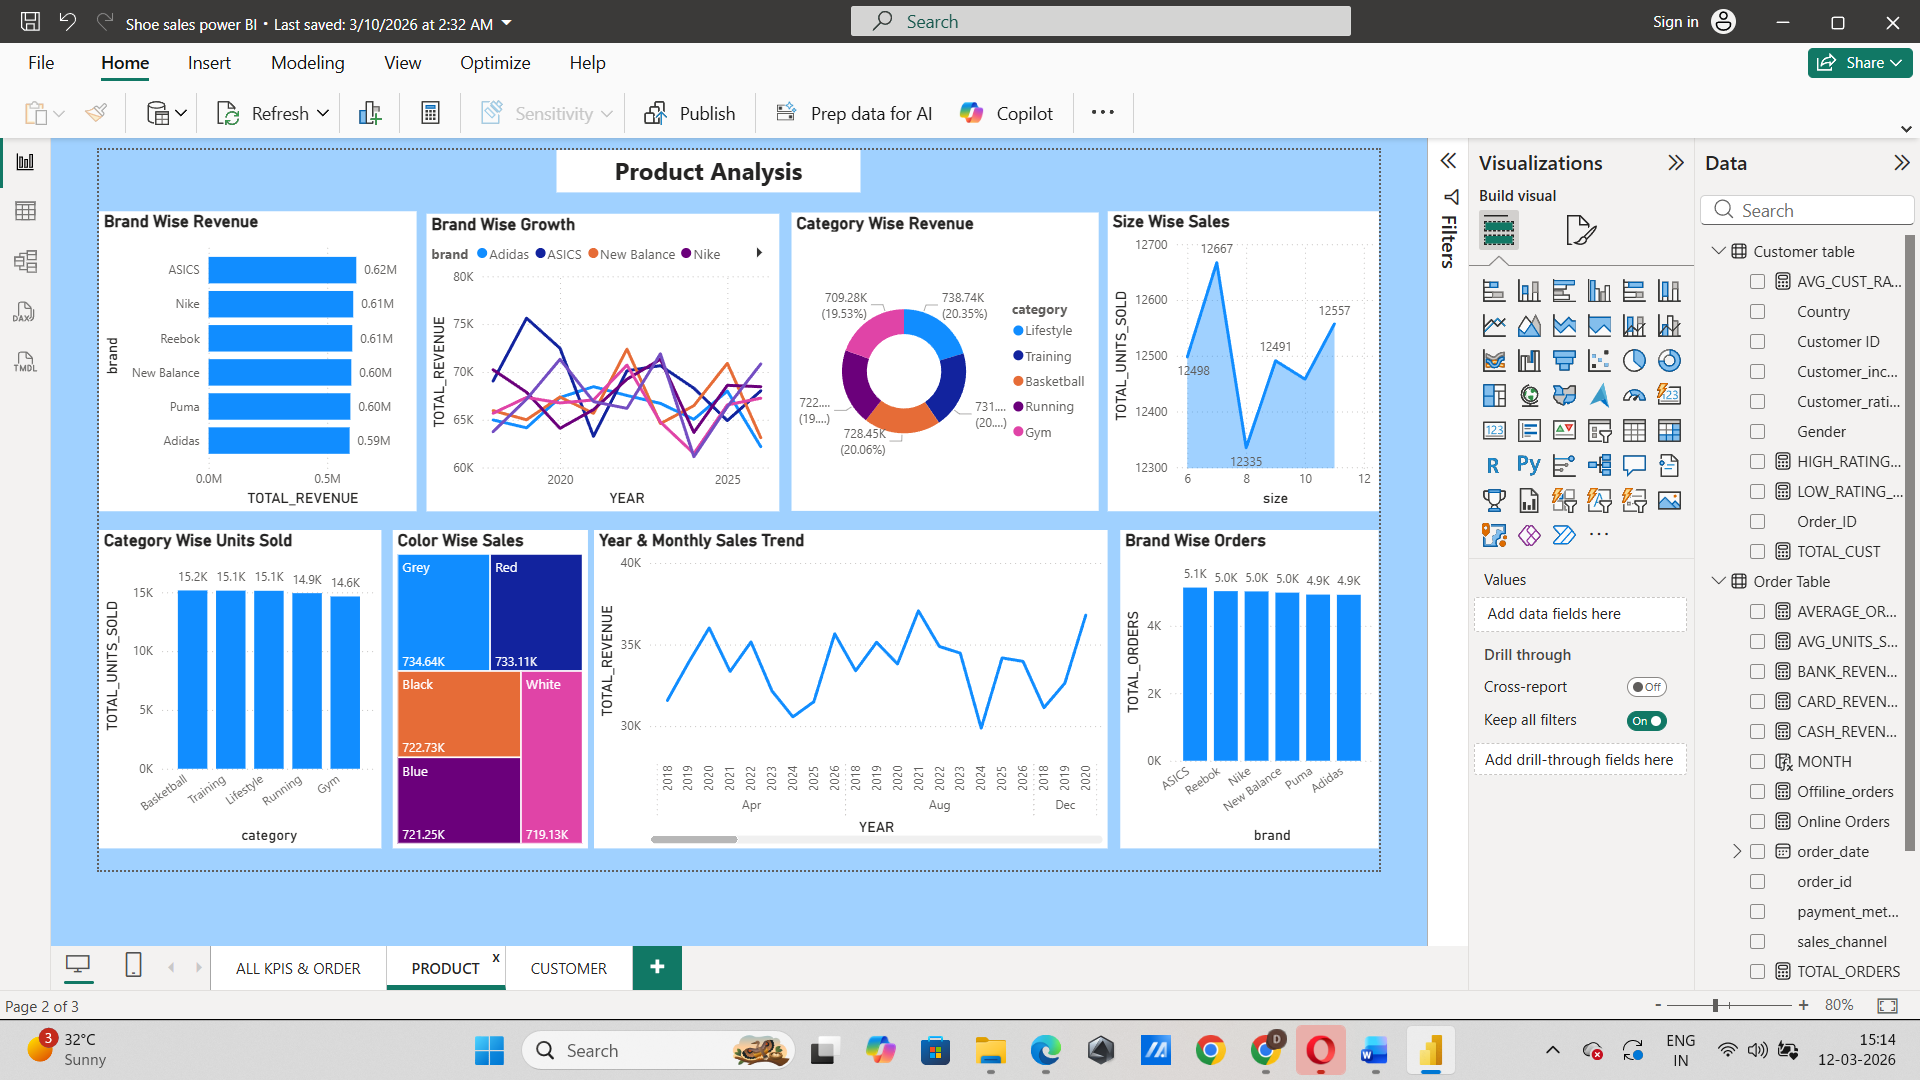

This screenshot's page, from the dashboard's own definition file:
{"tool":"powerbi","page":{"name":"PRODUCT","canvas":[1280,720],"ordinal":1},"visuals":[{"type":"clusteredBarChart","title":"Brand Wise Revenue","fields":{"Category":["Products Table.brand"],"Y":["Products Table.TOTAL_REVENUE"]},"box":[0,61.2,317.5,300],"z":0},{"type":"donutChart","title":"Category Wise Revenue","fields":{"Category":["Products Table.category"],"Y":["Products Table.TOTAL_REVENUE"]},"box":[692.5,62.5,307.5,298.8],"z":1000},{"type":"columnChart","title":"Category Wise Units Sold","fields":{"Category":["Products Table.category"],"Y":["Order Table.TOTAL_UNITS_SOLD"]},"box":[0,380,282.5,318.8],"z":2000},{"type":"areaChart","title":"Size Wise Sales","fields":{"Category":["Products Table.size"],"Y":["Order Table.TOTAL_UNITS_SOLD"]},"box":[1008.8,61.2,271.2,300],"z":3000},{"type":"treemap","title":"Color Wise Sales","fields":{"Group":["Products Table.color"],"Values":["Products Table.TOTAL_REVENUE"]},"box":[293.8,380,195,318.8],"z":4000},{"type":"lineChart","title":"Brand Wise Growth","fields":{"Category":["Order Table.YEAR"],"Series":["Products Table.brand"],"Y":["Products Table.TOTAL_REVENUE"]},"box":[327.5,63.8,352.5,297.5],"z":5000},{"type":"lineChart","title":"Year & Monthly Sales Trend","fields":{"Y":["Products Table.TOTAL_REVENUE"],"Category":["Order Table.MONTH","Order Table.YEAR"]},"box":[495,380,513.8,318.8],"z":6000},{"type":"columnChart","title":"Brand Wise Orders","fields":{"Category":["Products Table.brand"],"Y":["Order Table.TOTAL_ORDERS"]},"box":[1021.2,380,258.8,318.8],"z":7000},{"type":"textbox","box":[457.5,0,303.8,42.5],"z":8000}]}

Visuals, with their boxes on the page's 1280x720 design canvas (x1, y1, x2, y2). These are canvas units, not pixel positions in the 1920x1080 screenshot, which may show the page scaled, cropped or inside an application window:
"Brand Wise Revenue" clusteredBarChart: 0 61 318 361
"Category Wise Revenue" donutChart: 692 62 1000 361
"Category Wise Units Sold" columnChart: 0 380 282 699
"Size Wise Sales" areaChart: 1009 61 1280 361
"Color Wise Sales" treemap: 294 380 489 699
"Brand Wise Growth" lineChart: 328 64 680 361
"Year & Monthly Sales Trend" lineChart: 495 380 1009 699
"Brand Wise Orders" columnChart: 1021 380 1280 699
textbox: 458 0 761 42
